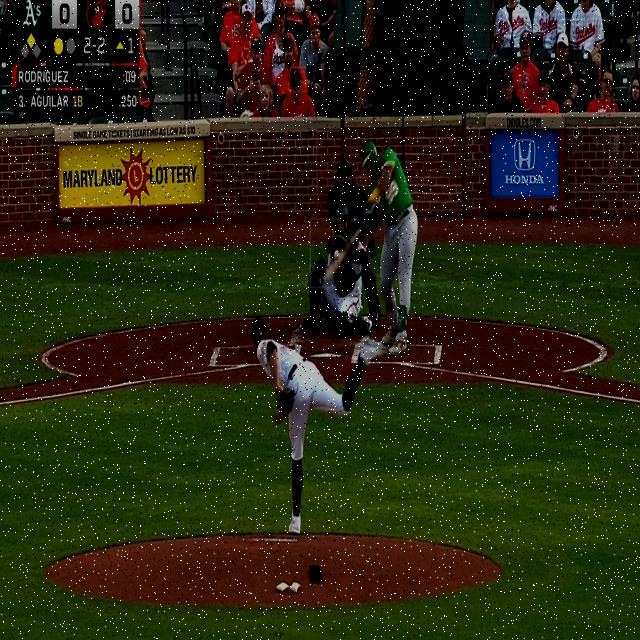baseball: (334, 250, 339, 260)
